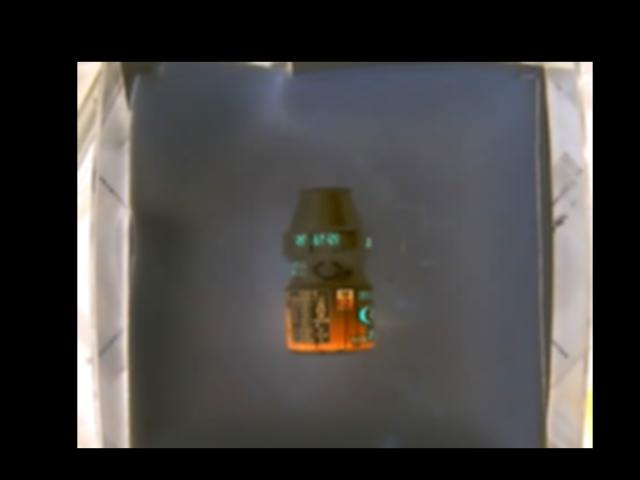Bottle: (287, 185, 372, 357)
